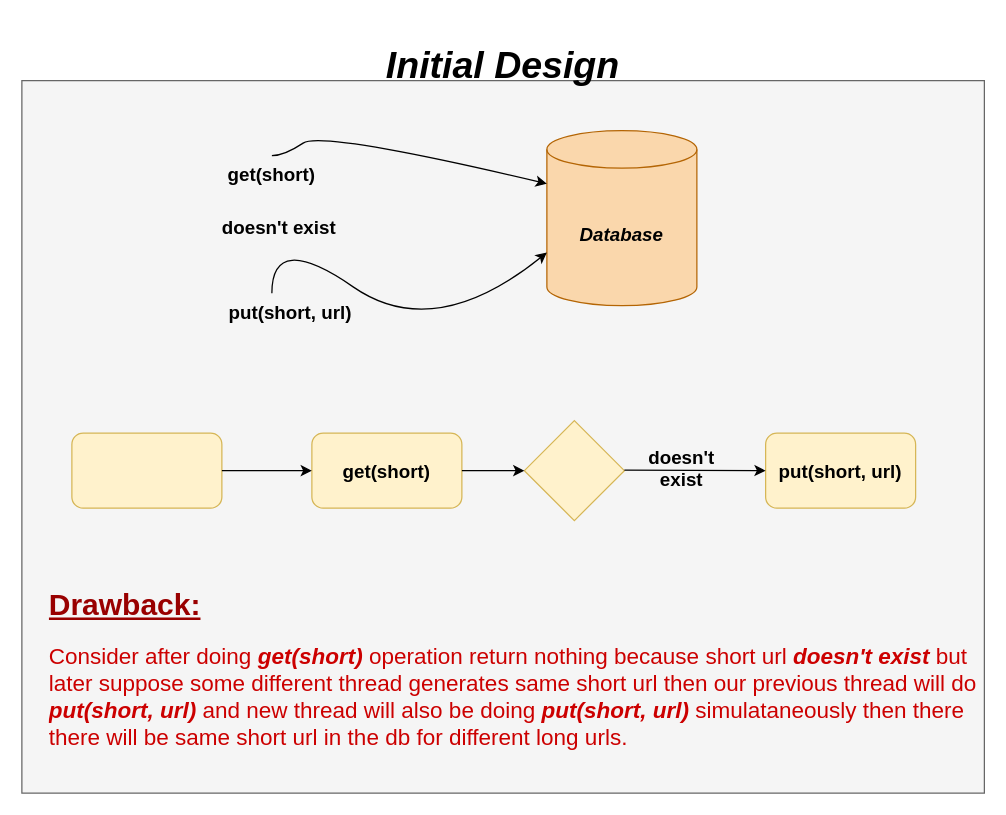
Some shapes in this 1006 by 815 pixel diagram are drawn without their labels. Here are the shapes that lost their labels. From the top down, the centre of each, then its label:
the point at 146,470: convert long url to short url
the point at 573,470: exist in database
